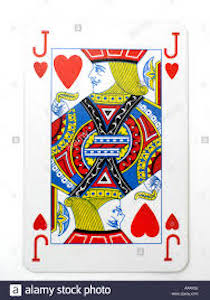JackOfHearts: (22, 18, 194, 276)
